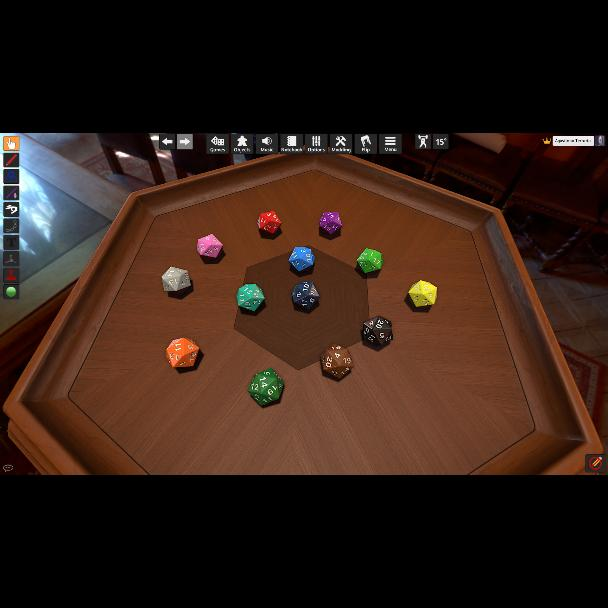d20: (247, 367, 285, 405), (320, 345, 352, 379), (166, 338, 200, 368), (161, 266, 191, 296), (362, 316, 390, 346), (236, 284, 264, 312), (290, 282, 318, 310), (357, 249, 383, 275), (287, 246, 313, 272), (412, 281, 438, 307), (196, 234, 222, 258), (258, 211, 282, 235), (319, 212, 341, 234)
